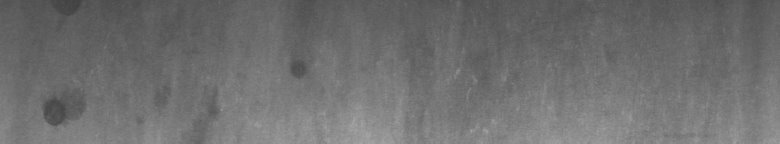fi: (37, 96, 143, 132)
